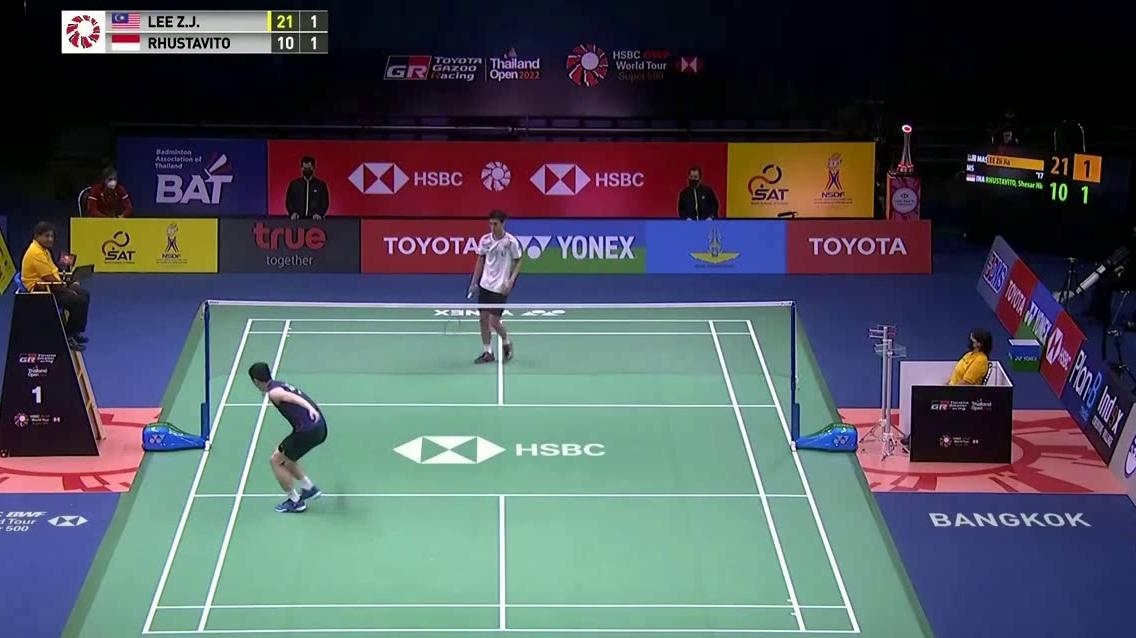racket: (444, 284, 478, 336)
